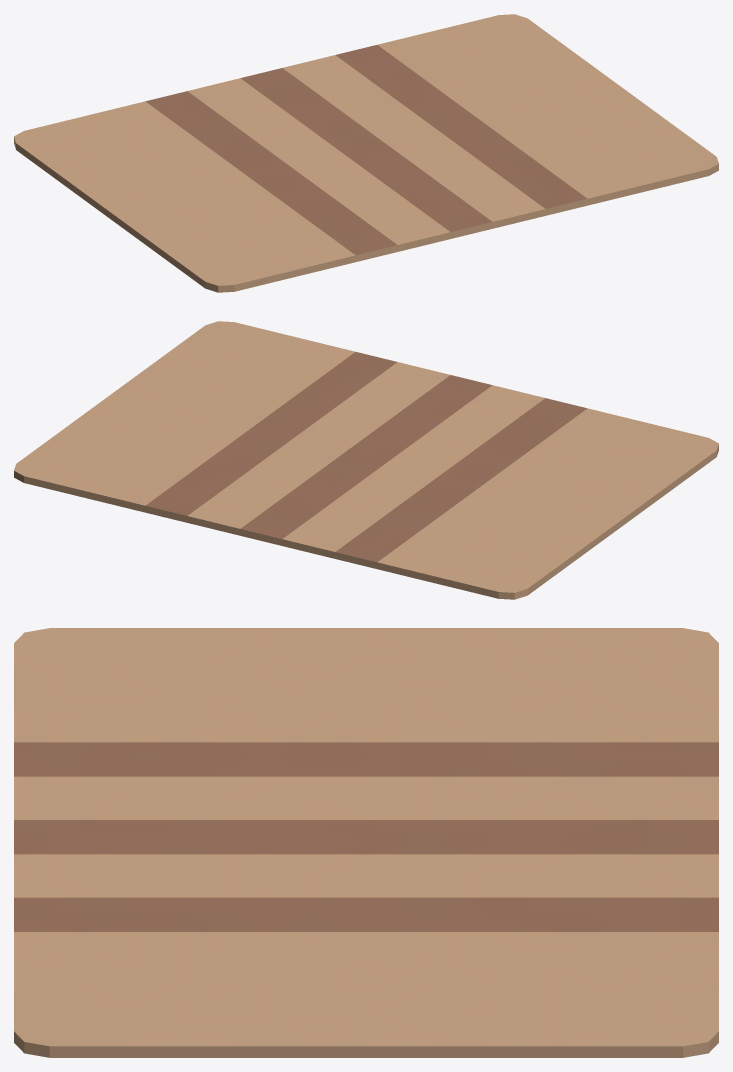
Rendered from Carpet_02_01.fbx.
3 renders of one model, top to bottom at view 1: azimuth 30°, elevation 25°; view 2: azimuth 150°, elevation 25°; view 3: azimuth 270°, elevation 25°, orthographic. The views are drawn at different scales.
Parts seen in each view (by area): view 1: Carpet_02_01; view 2: Carpet_02_01; view 3: Carpet_02_01.
Part boxes in pixels (x1,y1,x2,y2): Carpet_02_01: (14, 14, 718, 292); Carpet_02_01: (14, 321, 718, 599); Carpet_02_01: (14, 628, 718, 1057).
Size of the model in its own units: 1.56 by 0.0201 by 1.11.
